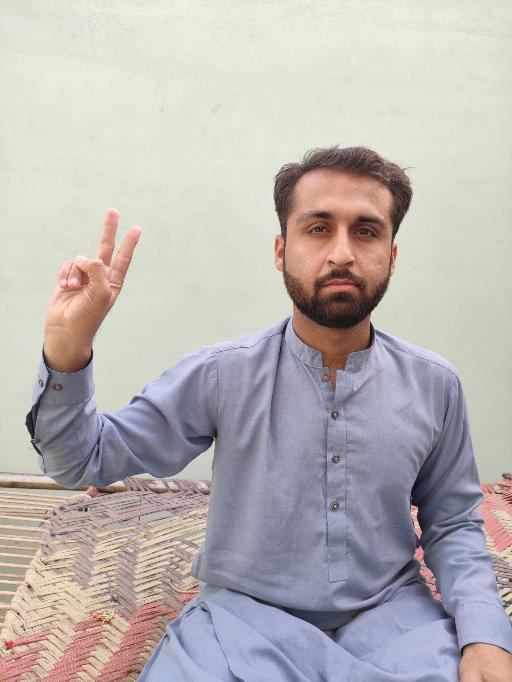peace: (41, 204, 141, 353)
